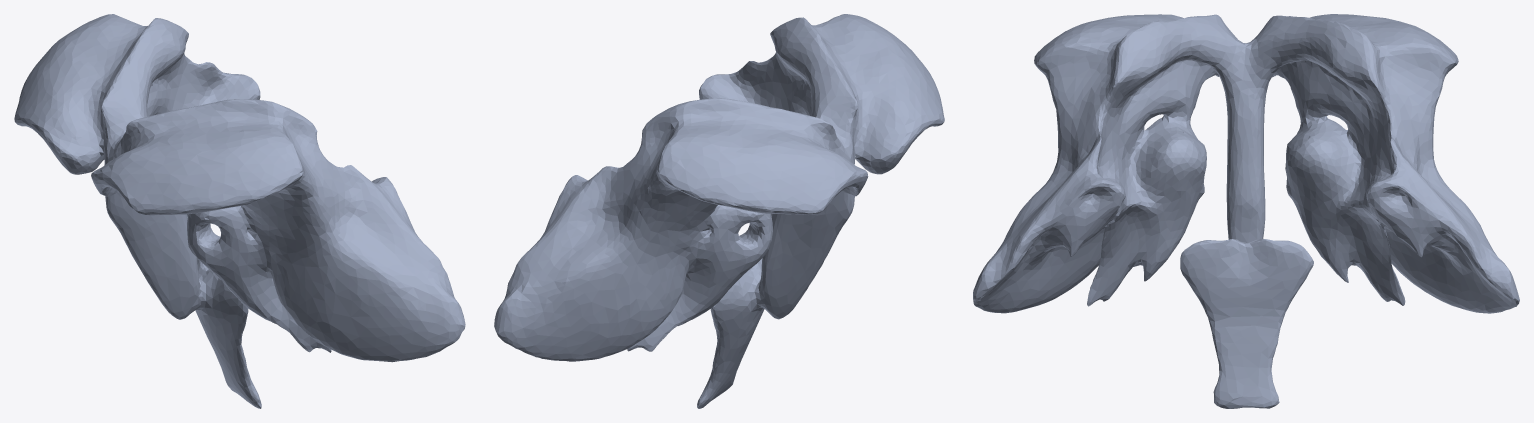
The picture shows the model from 3 angles, left to right: view 1: azimuth 30°, elevation 25°; view 2: azimuth 150°, elevation 25°; view 3: azimuth 270°, elevation 25°; orthographic projection. The views are drawn at different scales.
Visible parts, largest first — view 1: 803.obj; view 2: 803.obj; view 3: 803.obj.
Boxes of the visible parts, x1,y1,x2,y2 form: 803.obj: (14, 14, 465, 408); 803.obj: (494, 14, 944, 408); 803.obj: (973, 14, 1519, 408).
Bounding box in the file's own units: 3637 × 4610 × 6392.
